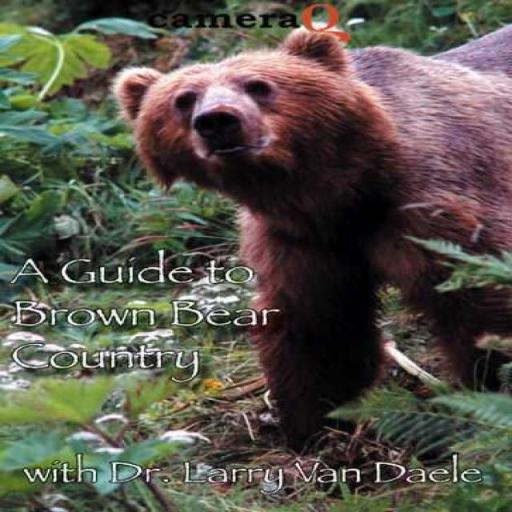Bear: (110, 23, 511, 453)
